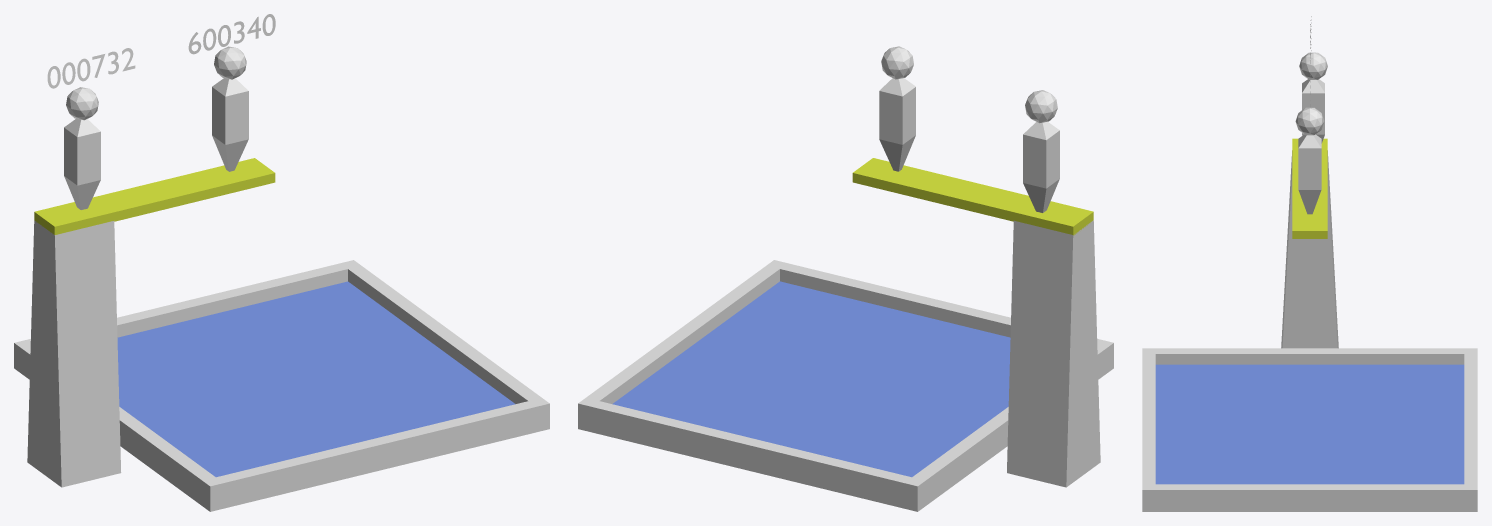
The model's file is stock_jump2.glb.
3 views of the same model, side by side, from view 1: azimuth 30°, elevation 25°; view 2: azimuth 150°, elevation 25°; view 3: azimuth 270°, elevation 25° (orthographic). The views are drawn at different scales.
Parts seen in each view (by area): view 1: Cube.004, Cube, Cube.001, Cube.002, Cube.003, Cube.005, Text, Text.001; view 2: Cube.004, Cube, Cube.001, Cube.002, Cube.003, Cube.005; view 3: Cube.004, Cube, Cube.001, Cube.003, Cube.002, Cube.005.
Part boxes in pixels (x1,y1,x2,y2): Cube.004: [117, 281, 515, 477]; Cube: [14, 260, 549, 511]; Cube.001: [27, 220, 121, 487]; Cube.002: [34, 158, 275, 234]; Cube.003: [212, 46, 248, 171]; Cube.005: [64, 87, 100, 209]; Text: [188, 14, 275, 54]; Text.001: [47, 48, 135, 88]; Cube.004: [612, 281, 1010, 477]; Cube: [578, 260, 1113, 511]; Cube.001: [1007, 220, 1100, 487]; Cube.002: [852, 158, 1093, 235]; Cube.003: [879, 46, 915, 171]; Cube.005: [1023, 90, 1059, 212]; Cube.004: [1155, 364, 1464, 484]; Cube: [1142, 348, 1477, 511]; Cube.001: [1281, 150, 1338, 348]; Cube.003: [1295, 107, 1324, 214]; Cube.002: [1292, 138, 1327, 238]; Cube.005: [1299, 52, 1327, 143].
Bounding box in the file's own units: 13.7 × 13.05 × 11.42.
